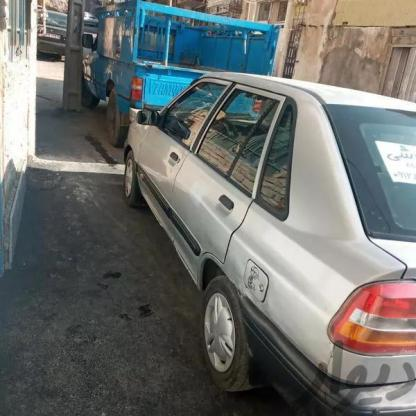Car: (122, 72, 416, 416), (68, 7, 285, 161)
